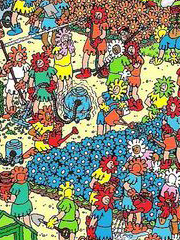waldo: (117, 24, 129, 40)
